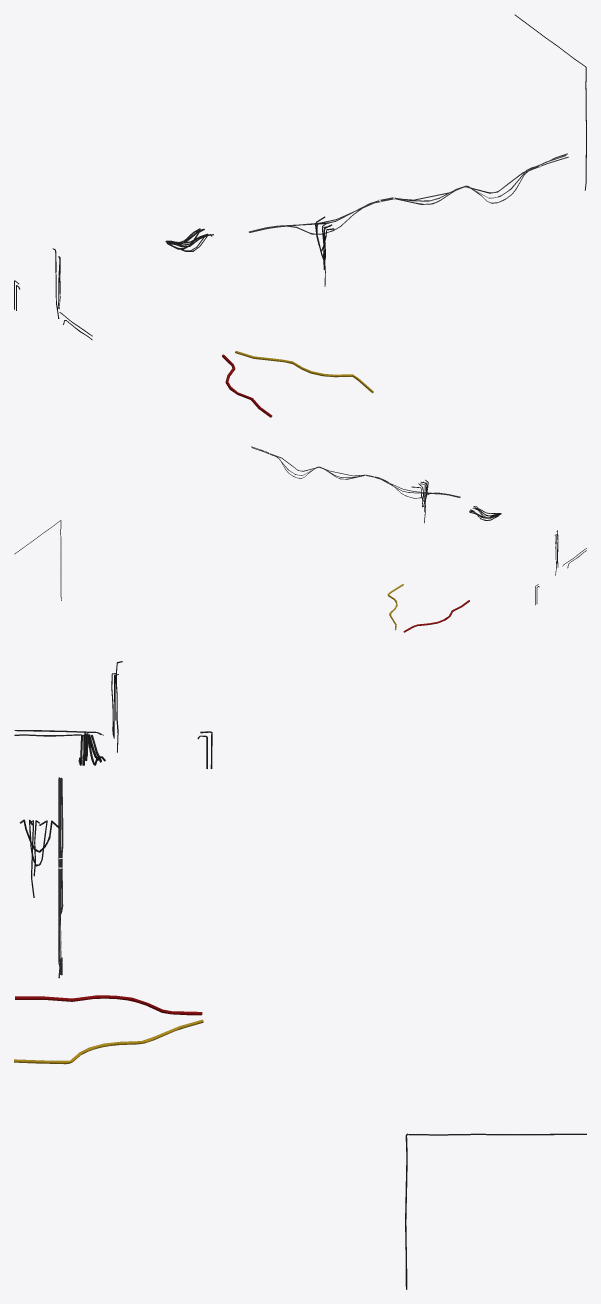
File: SM_H_Building_Tide_Examinationroom_01A_ATLAS.fbx
The picture shows the model from 3 angles, top to bottom: view 1: azimuth 30°, elevation 25°; view 2: azimuth 150°, elevation 25°; view 3: azimuth 270°, elevation 25°; orthographic projection. The views are drawn at different scales.
Parts seen in each view (by area): view 1: SM_H_Building_Tide_Examinationroom_01A_ATLAS_LOD0; view 2: SM_H_Building_Tide_Examinationroom_01A_ATLAS_LOD0; view 3: SM_H_Building_Tide_Examinationroom_01A_ATLAS_LOD0.
Boxes of the visible parts, <box> form: SM_H_Building_Tide_Examinationroom_01A_ATLAS_LOD0: <box>14,14,586,417</box>; SM_H_Building_Tide_Examinationroom_01A_ATLAS_LOD0: <box>14,446,586,632</box>; SM_H_Building_Tide_Examinationroom_01A_ATLAS_LOD0: <box>14,661,586,1289</box>.
Bounding box in the file's own units: 1935 × 1167 × 517.
